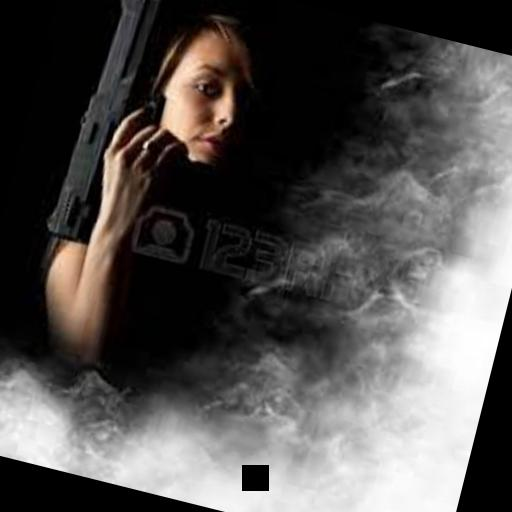Handgun: (37, 0, 190, 254)
